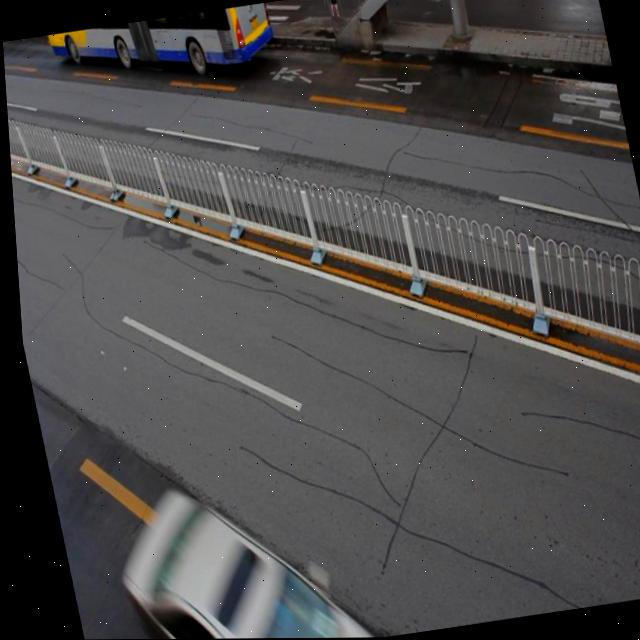car: (95, 463, 366, 640)
van: (45, 3, 278, 96)
